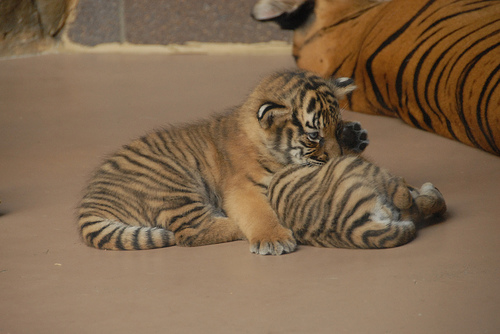Tigre: (106, 85, 390, 247)
